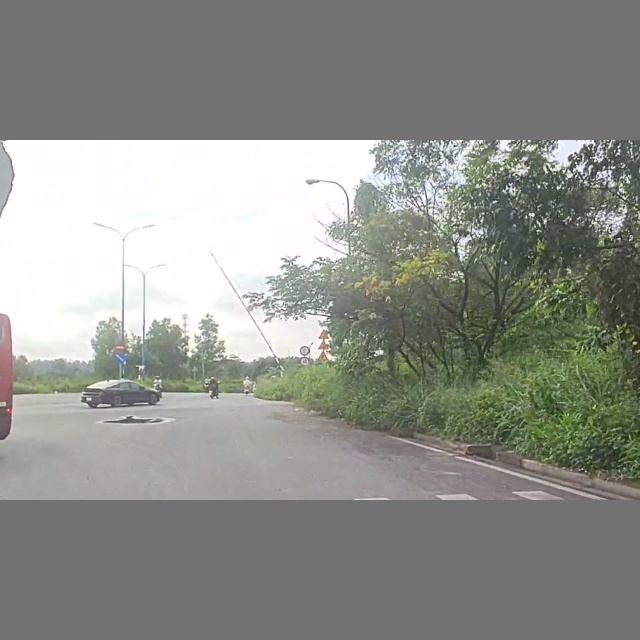P.102: (115, 342, 126, 353)
P.127*40: (299, 357, 311, 365)
R.302a: (113, 353, 127, 364)
W.201b: (317, 349, 330, 363)
